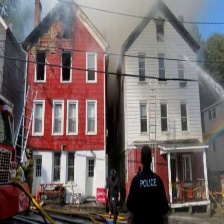smoke: (44, 1, 204, 45)
